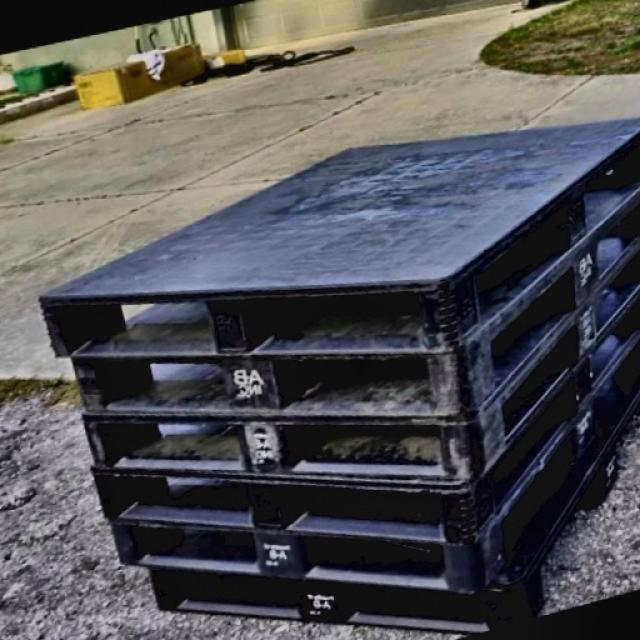non-igps: (30, 108, 640, 368), (85, 276, 640, 555), (99, 316, 640, 602), (64, 176, 640, 430), (136, 385, 640, 640), (69, 280, 640, 494)
